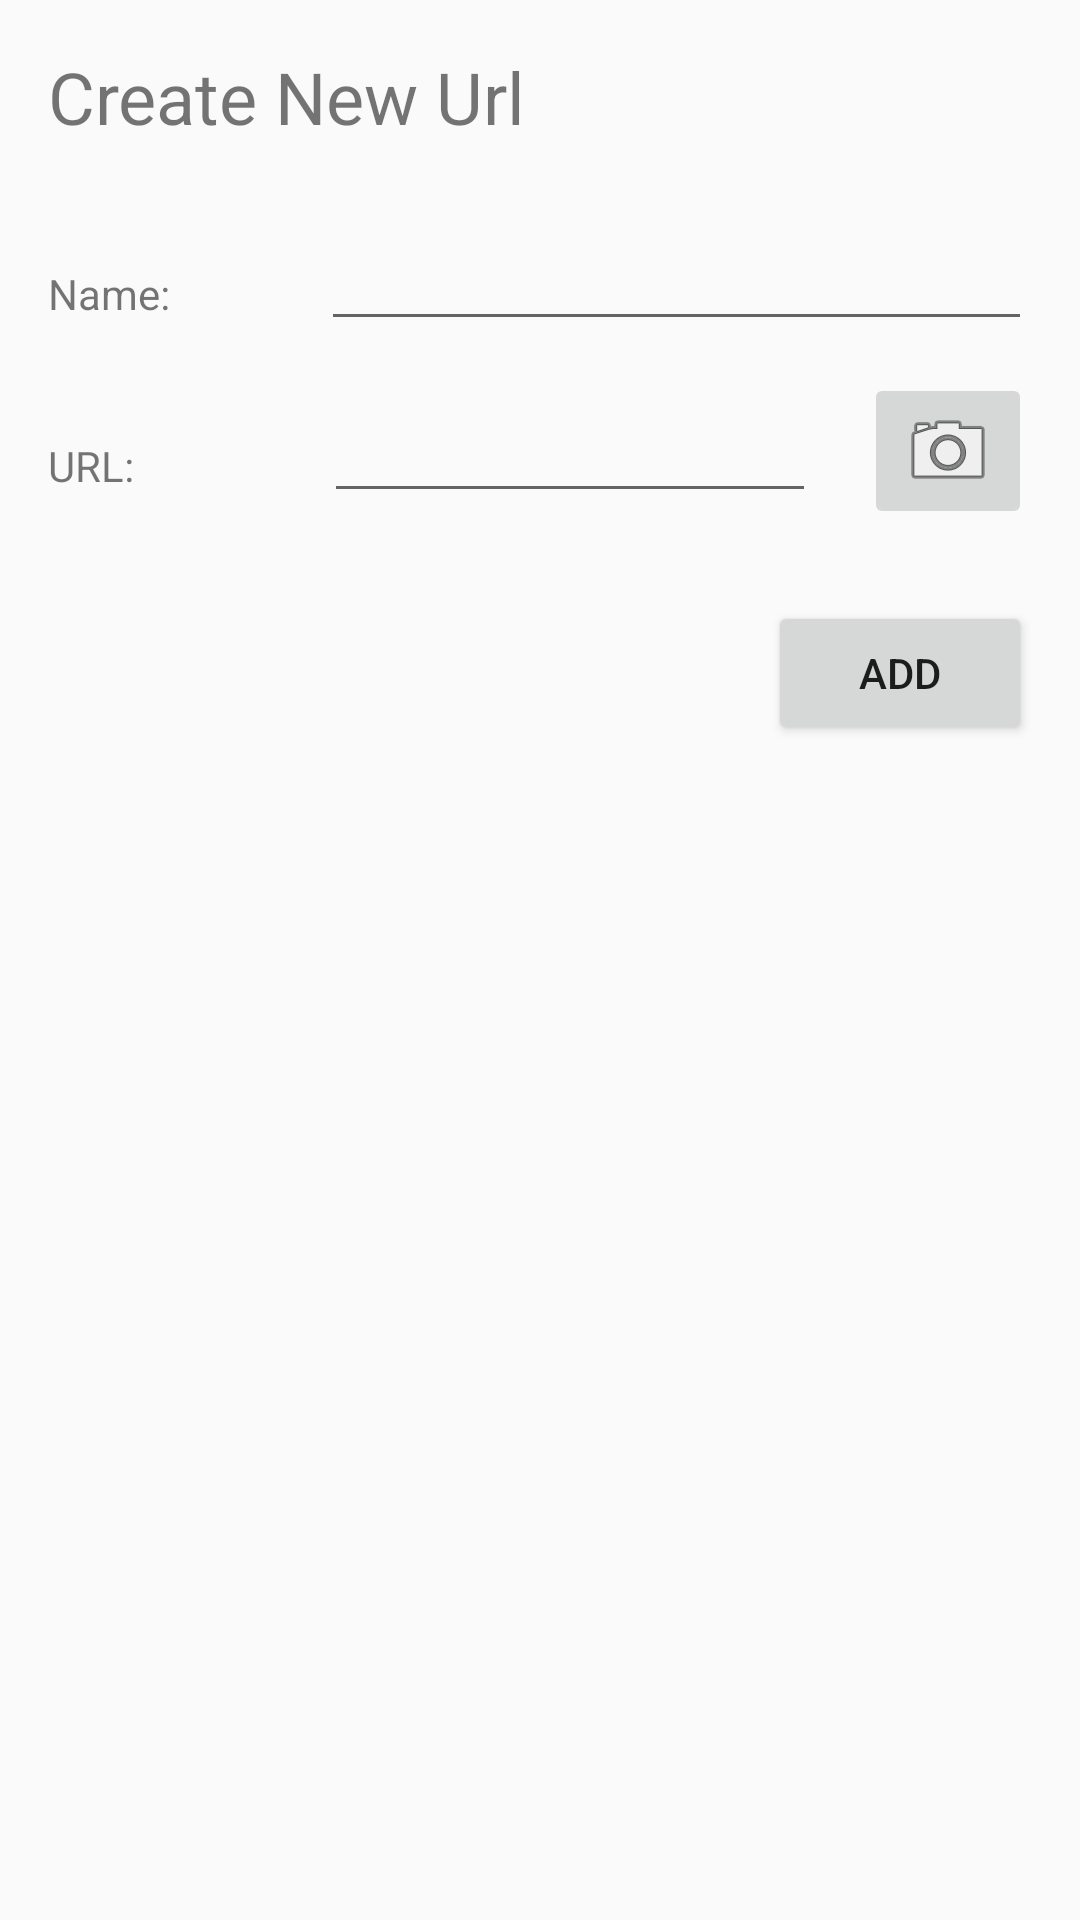

Icon click points for this 1080 × 1920 phone screenshot, format (x,y):
camera: (948,451)
